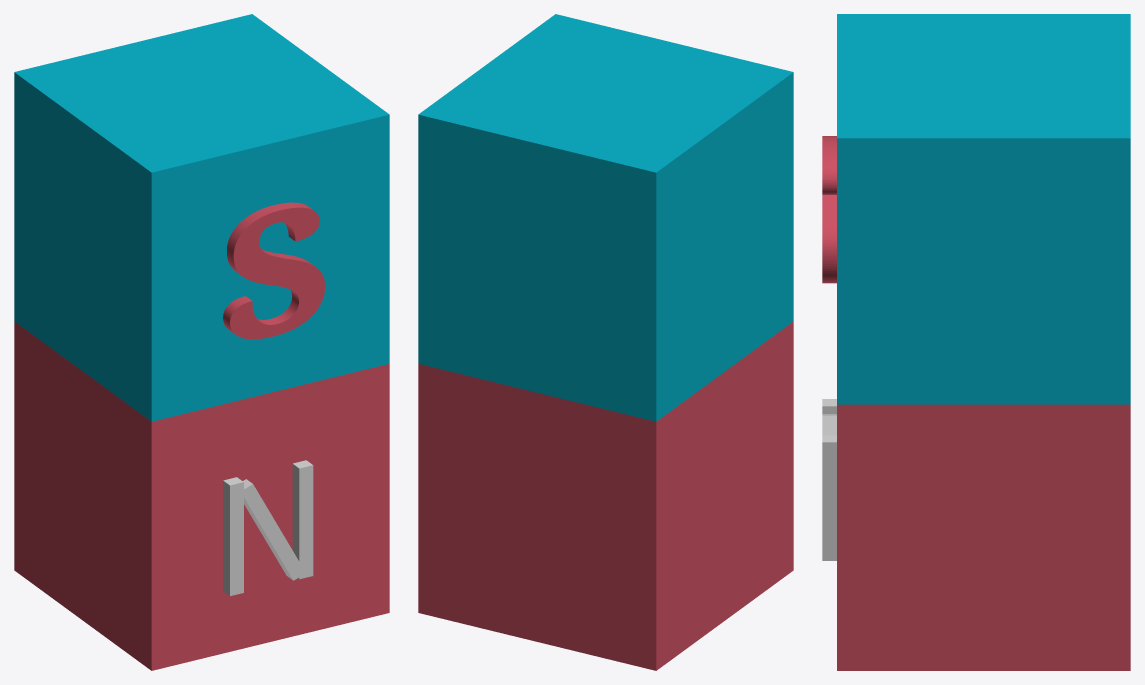
The model's file is ima.glb.
3 renders of one model, left to right at view 1: azimuth 30°, elevation 25°; view 2: azimuth 150°, elevation 25°; view 3: azimuth 270°, elevation 25°, orthographic. The views are drawn at different scales.
Parts seen in each view (by area): view 1: Mesh_Mesh_head_geo.001_lambert2SG.001; view 2: Mesh_Mesh_head_geo.001_lambert2SG.001; view 3: Mesh_Mesh_head_geo.001_lambert2SG.001.
Boxes of the visible parts, bbox=[...] form: Mesh_Mesh_head_geo.001_lambert2SG.001: bbox=[14, 14, 389, 670]; Mesh_Mesh_head_geo.001_lambert2SG.001: bbox=[418, 14, 793, 670]; Mesh_Mesh_head_geo.001_lambert2SG.001: bbox=[822, 14, 1130, 670].
Bounding box in the file's own units: 20 × 40 × 21.
